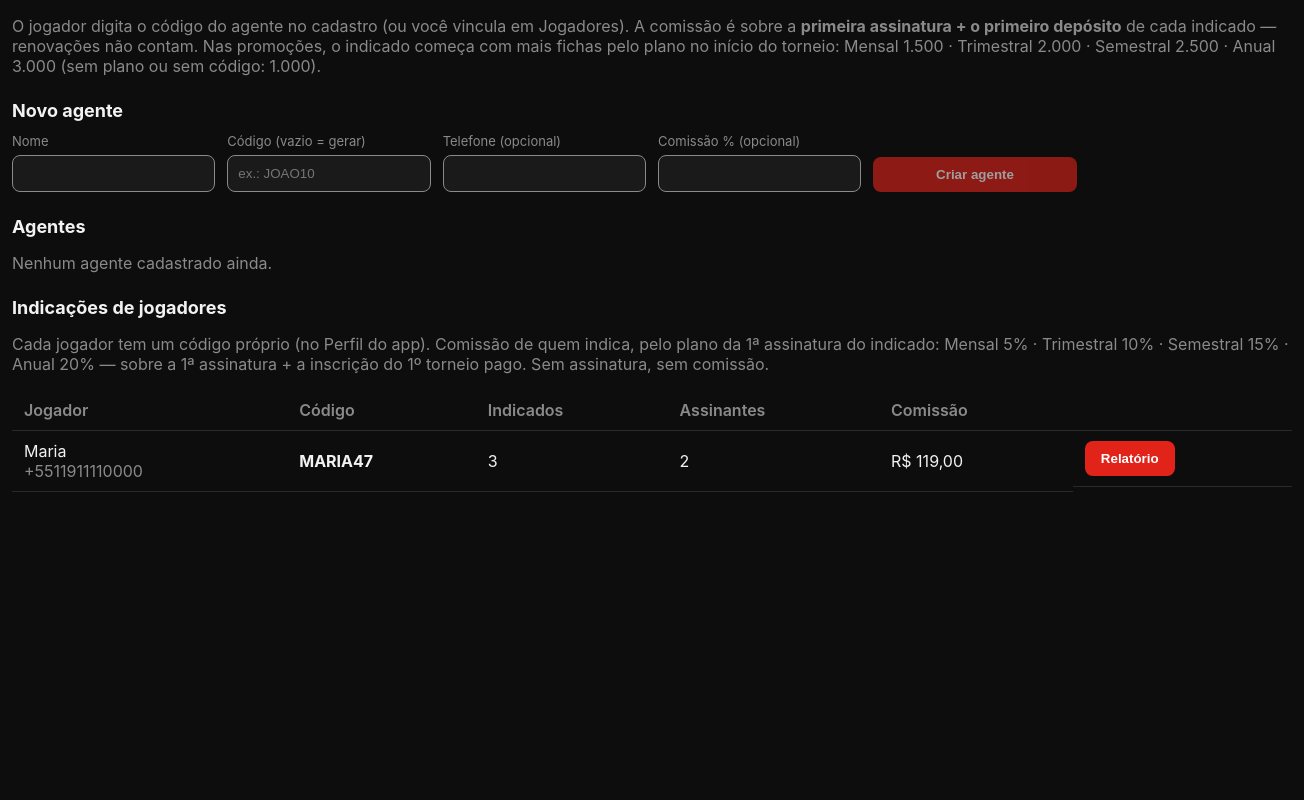
Test: Agents tab — players who invite players › lists who invited whom and opens the commission report
The width and height of the screenshot is (1304, 800).
Check: the text "R$ 119,00" is shown, box [879, 430, 1073, 492]
Check: the text "Anual 20%" is shown, box [12, 334, 1289, 374]
Click the button "Relatório": [1130, 458] box [1085, 441, 1175, 476]
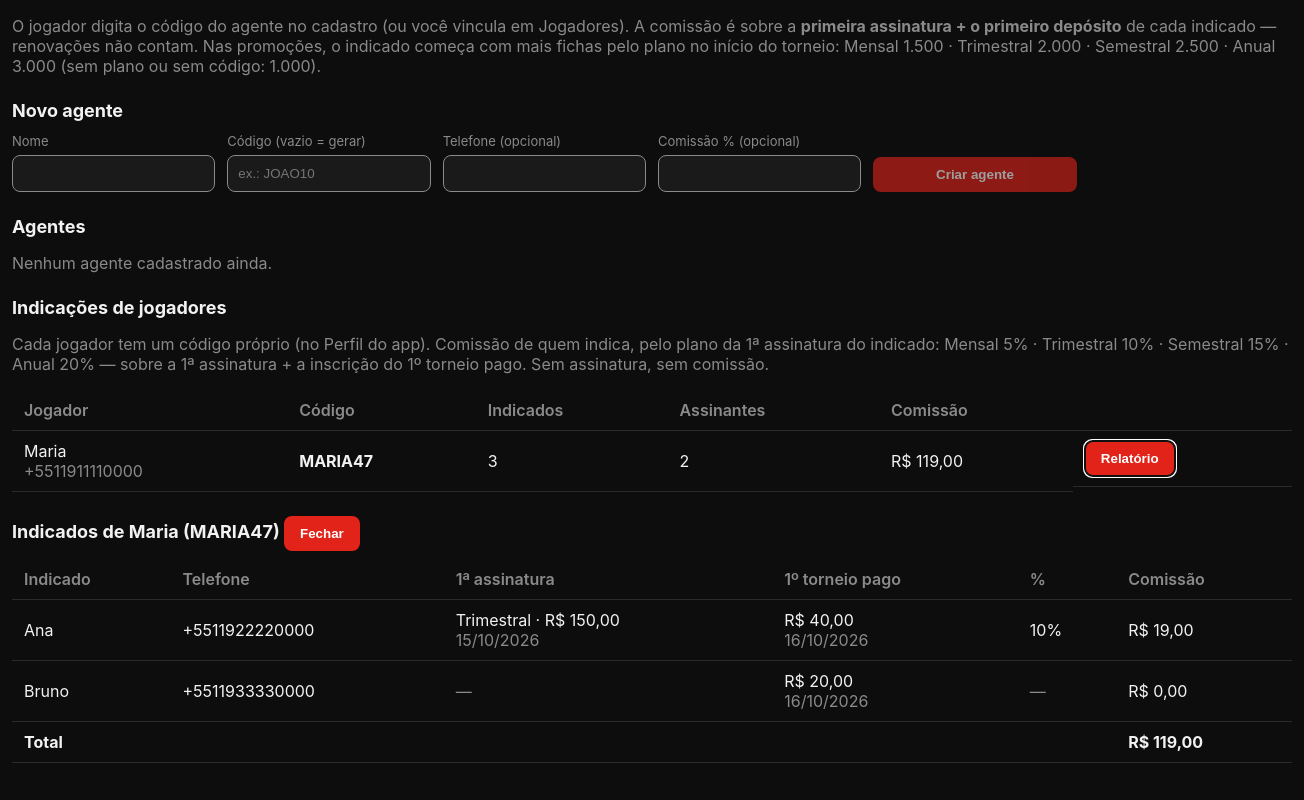
Check: the text "10%" is shown, box [1018, 600, 1116, 660]
Check: the text "R$ 19,00" is shown, box [1116, 600, 1292, 660]
Check: the text "R$ 0,00" is shown, box [1116, 660, 1292, 722]
